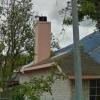Chimney: (28, 8, 61, 67)
